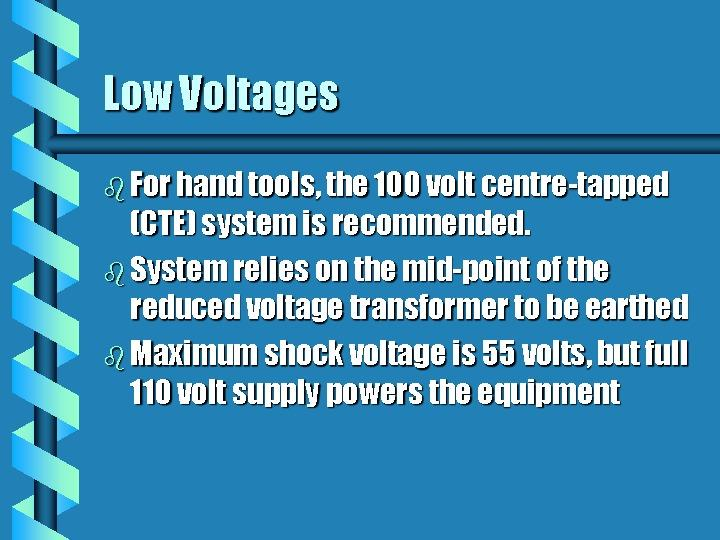paragraph: (101, 162, 698, 424)
title: (93, 64, 366, 127)
